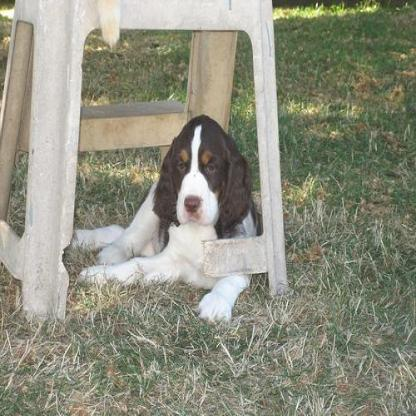English_springer: (72, 113, 256, 321)
